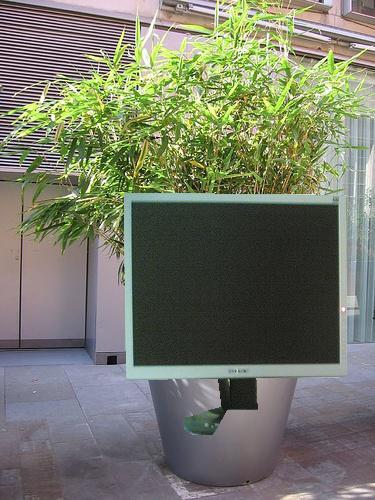tampered: (125, 194, 347, 435)
